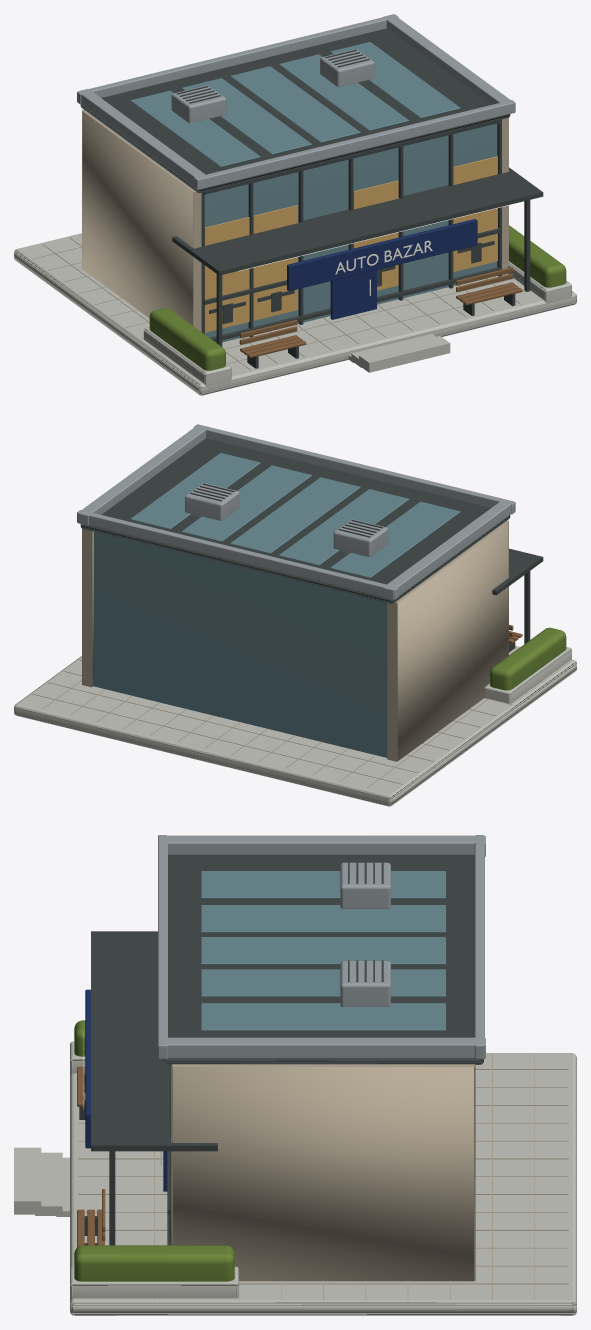
The model's file is office.glb.
The picture shows the model from 3 angles, top to bottom: view 1: azimuth 30°, elevation 25°; view 2: azimuth 150°, elevation 25°; view 3: azimuth 270°, elevation 25°; orthographic projection. The views are drawn at different scales.
Parts seen in each view (by area): view 1: Canopy.001, Roof skylight.005, Entry steps.003, Paving joint.024, Roof side coping.002, Warm reflected interior.004, Illuminated fascia.001, Hedge.002, Bench back.004, Door handle.001; view 2: Roof skylight.005, Entry steps.003, Paving joint.024, Roof side coping.002, Canopy.001, Hedge.002; view 3: Paving joint.024, Entry steps.003, Canopy.001, Roof skylight.005, Roof side coping.002, Hedge.002, Bench back.004, Illuminated fascia.001.
Boxes of the visible parts, left/top/right/bottom form: Canopy.001: left=80, top=28, right=543, bottom=368; Roof skylight.005: left=130, top=42, right=497, bottom=342; Entry steps.003: left=14, top=233, right=576, bottom=395; Paving joint.024: left=32, top=109, right=525, bottom=373; Roof side coping.002: left=77, top=14, right=515, bottom=189; Warm reflected interior.004: left=204, top=156, right=497, bottom=332; Illuminated fascia.001: left=287, top=219, right=477, bottom=319; Hedge.002: left=149, top=225, right=566, bottom=370; Bench back.004: left=239, top=267, right=522, bottom=357; Door handle.001: left=335, top=240, right=432, bottom=295; Roof skylight.005: left=93, top=453, right=460, bottom=757; Entry steps.003: left=14, top=646, right=576, bottom=806; Paving joint.024: left=32, top=520, right=558, bottom=787; Roof side coping.002: left=77, top=424, right=515, bottom=599; Canopy.001: left=80, top=438, right=543, bottom=652; Hedge.002: left=490, top=627, right=566, bottom=690; Paving joint.024: left=78, top=1054, right=568, bottom=1299; Entry steps.003: left=14, top=1041, right=576, bottom=1315; Canopy.001: left=79, top=854, right=483, bottom=1245; Roof skylight.005: left=201, top=871, right=445, bottom=1030; Roof side coping.002: left=158, top=835, right=485, bottom=1059; Hedge.002: left=74, top=1020, right=234, bottom=1281; Bench back.004: left=77, top=1066, right=105, bottom=1247; Illuminated fascia.001: left=85, top=989, right=167, bottom=1191.
Bounding box in the file's own units: 14 × 6.95 × 13.33.
